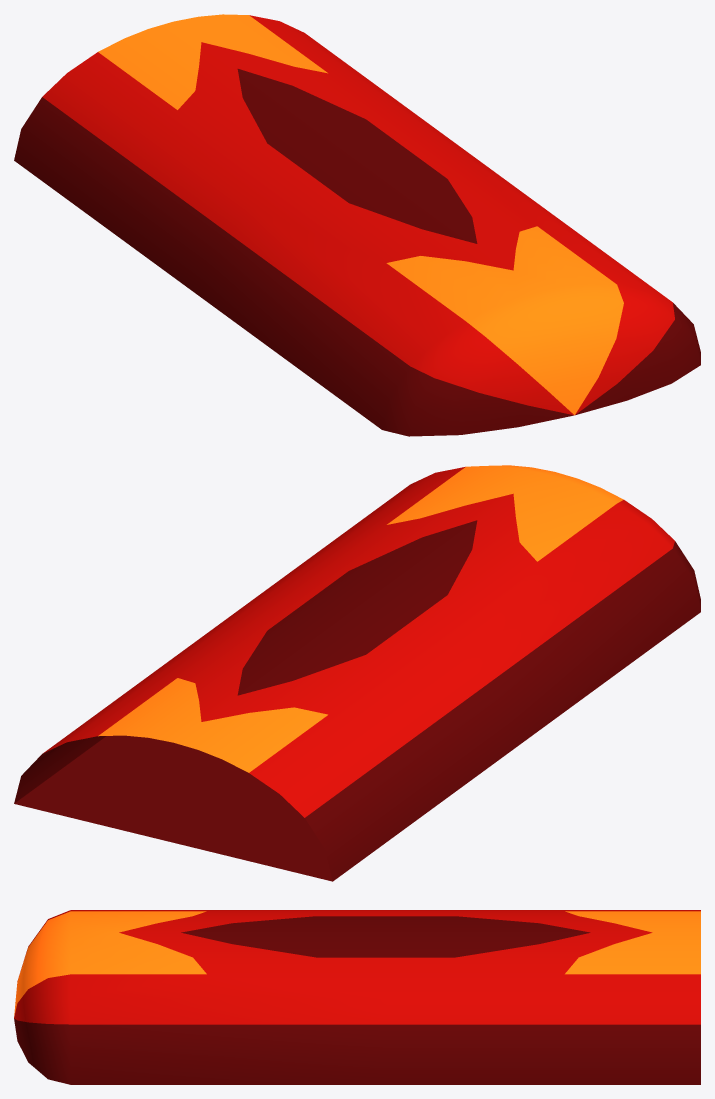
Rendered from shot_laser_293.glb.
3 renders of one model, top to bottom at view 1: azimuth 30°, elevation 25°; view 2: azimuth 150°, elevation 25°; view 3: azimuth 270°, elevation 25°, orthographic. The views are drawn at different scales.
Visible parts, largest first — view 1: shot_laser_293_rod; view 2: shot_laser_293_rod; view 3: shot_laser_293_rod.
Boxes of the visible parts, x1,y1,x2,y2 form: shot_laser_293_rod: (14, 14, 700, 436); shot_laser_293_rod: (14, 465, 700, 881); shot_laser_293_rod: (14, 910, 700, 1084).
Size of the model in its own units: 7 by 2.1 by 15.26.
